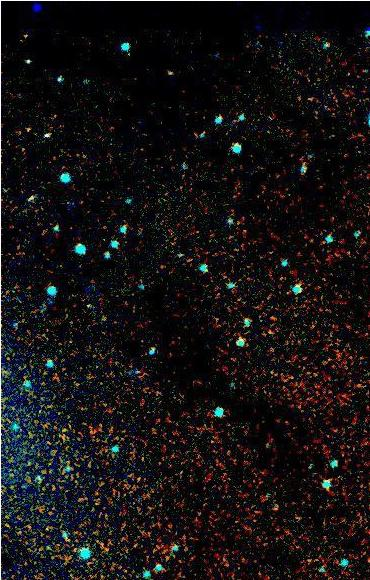star: (13, 113, 43, 143)
